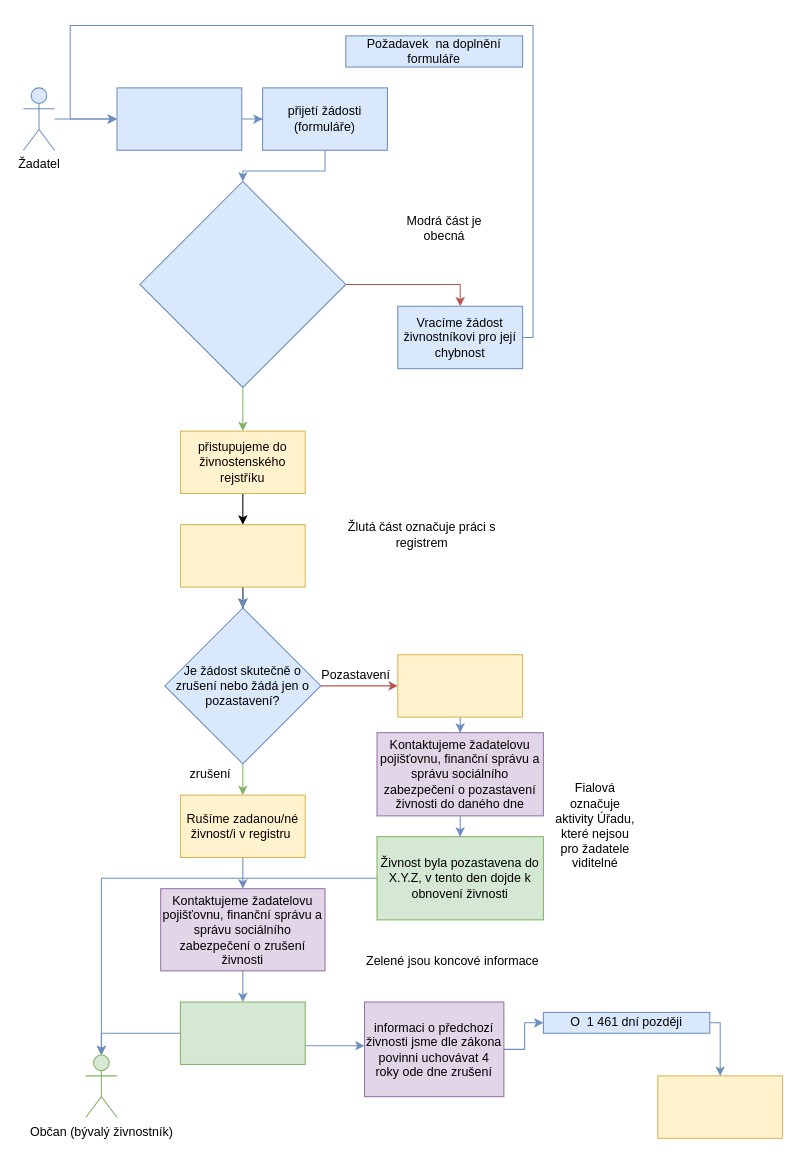
The diagram is 801 pixels wide and 1158 high, and some of its shapes have lost their labels. Here are the shapes that lost their labels. From the top down, the centre of each, then its label:
At (x=179, y=118): "Vyplnění či doplnění formuláře".
At (x=242, y=283): "Kontrola formální stránky žádosti. Je žádost v pořádku?".
At (x=242, y=555): "Vyhledáme žádajícího dle IČO".
At (x=460, y=685): "Pozastavujeme zadanou/né živnost/i v registru do doby uvedené v žádosti".
At (x=242, y=1032): "Živnost byla zrušena".
At (x=720, y=1106): "Mažeme daný zápis z rejstříku".
